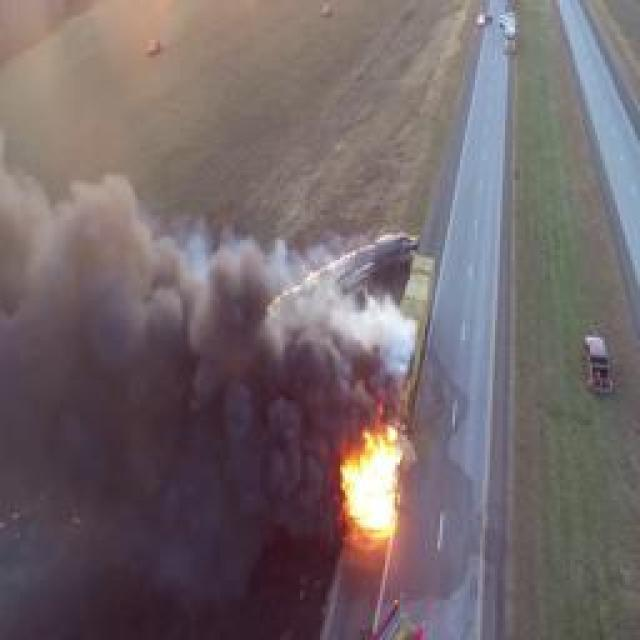Fire: (342, 425, 400, 569)
Smoke: (28, 193, 279, 589), (202, 278, 399, 381)
